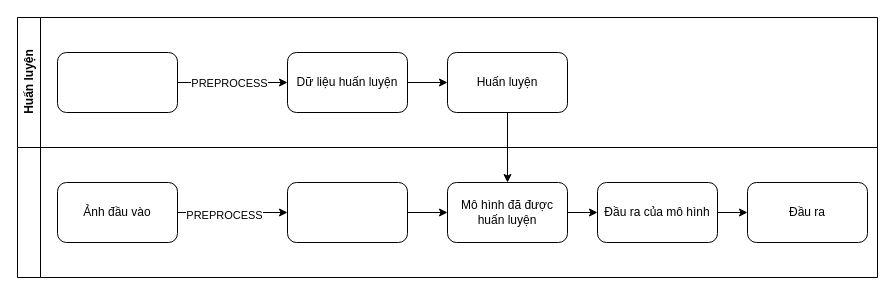
Image size: 895x295. Some labels were removed from this diagram. Here are the shapes that lost their labels. From the top down, the box of each, then its label:
(56, 52, 178, 112): Tập dữ liệu
(286, 182, 408, 242): Dữ liệu đầu vào
(16, 146, 878, 278): Dự đoán
